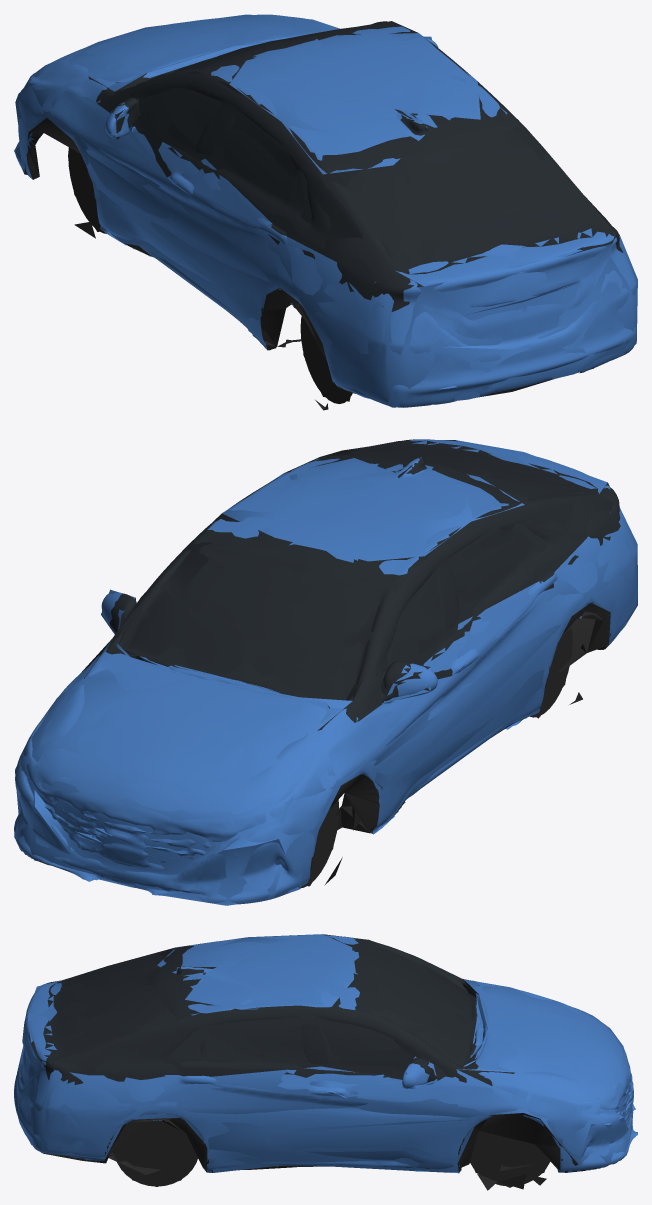
File: hyundai-elantra.glb
3 views of the same model, one above another, from view 1: azimuth 30°, elevation 25°; view 2: azimuth 150°, elevation 25°; view 3: azimuth 270°, elevation 25° (orthographic). The views are drawn at different scales.
Visible parts, largest first — view 1: body, far; view 2: body, far; view 3: body, far.
Part boxes in pixels (box(x1,y1,x2,y2)): body: box(15, 14, 637, 410); far: box(14, 14, 637, 410); body: box(14, 439, 637, 904); far: box(14, 440, 637, 905); body: box(14, 935, 637, 1186); far: box(17, 934, 635, 1190).
Size of the model in its own units: 2.17 by 1.52 by 4.69.
